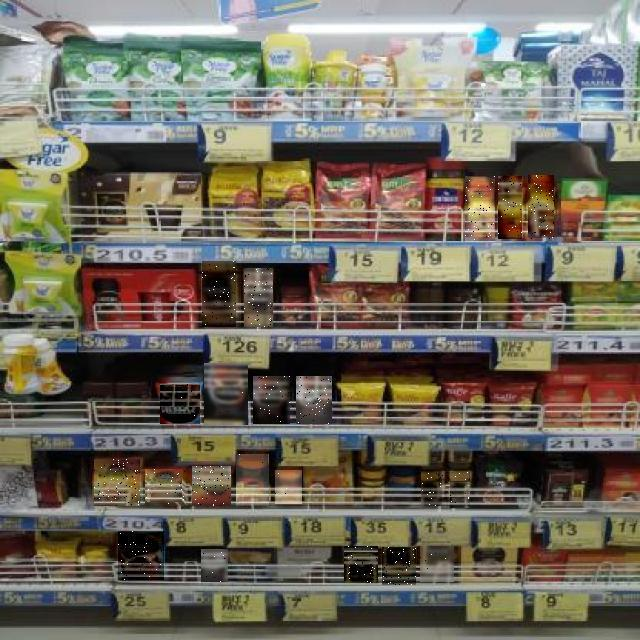Coffee: (204, 363, 248, 425), (118, 531, 164, 580), (202, 261, 236, 327), (95, 459, 141, 506), (465, 176, 495, 242), (254, 376, 292, 424), (297, 376, 333, 424), (236, 454, 269, 506), (244, 268, 273, 327), (529, 176, 555, 240), (160, 384, 200, 424), (192, 466, 231, 506), (498, 176, 522, 239), (146, 470, 186, 506), (382, 547, 416, 585), (344, 546, 378, 583), (421, 546, 455, 582), (202, 549, 230, 582), (275, 470, 302, 504), (422, 471, 444, 507), (450, 472, 470, 508)
